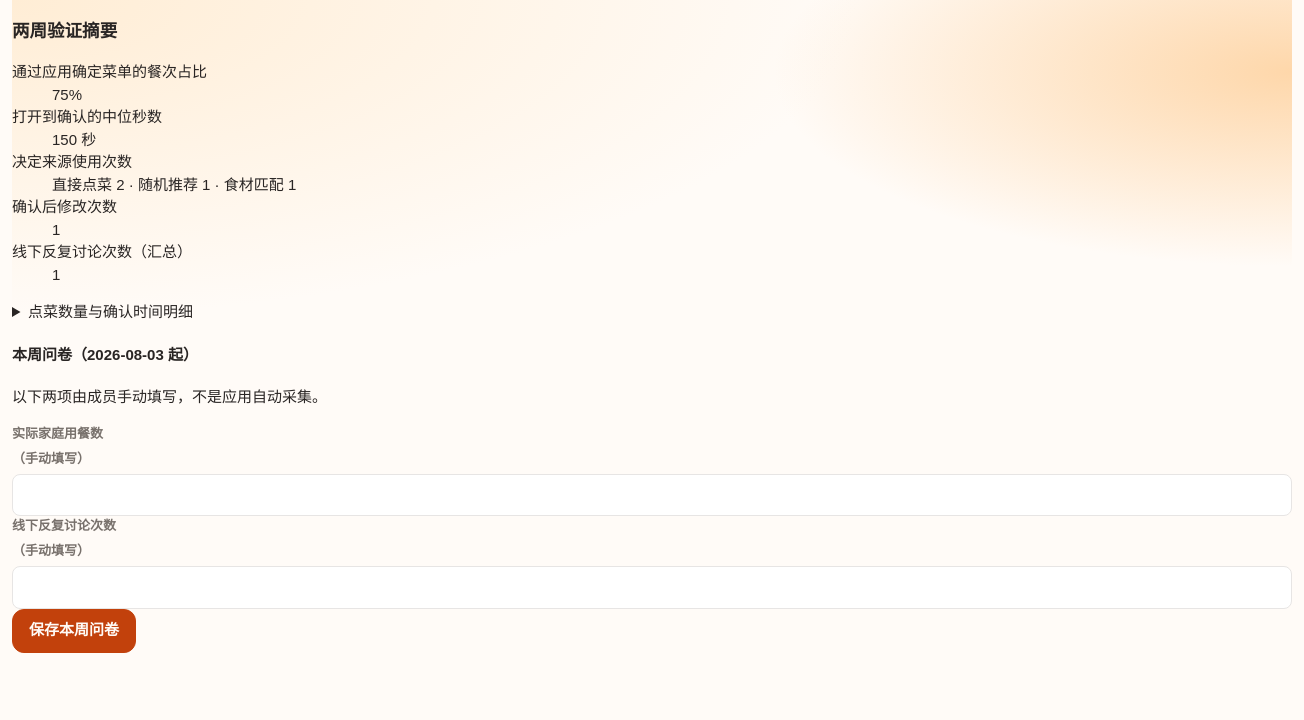
Scenario: ValidationSummary › submits weekly validation check-in
Type "4" into the number field labelled "实际家庭用餐数 （手动填写）" at (652, 495), box [12,474,1292,516]
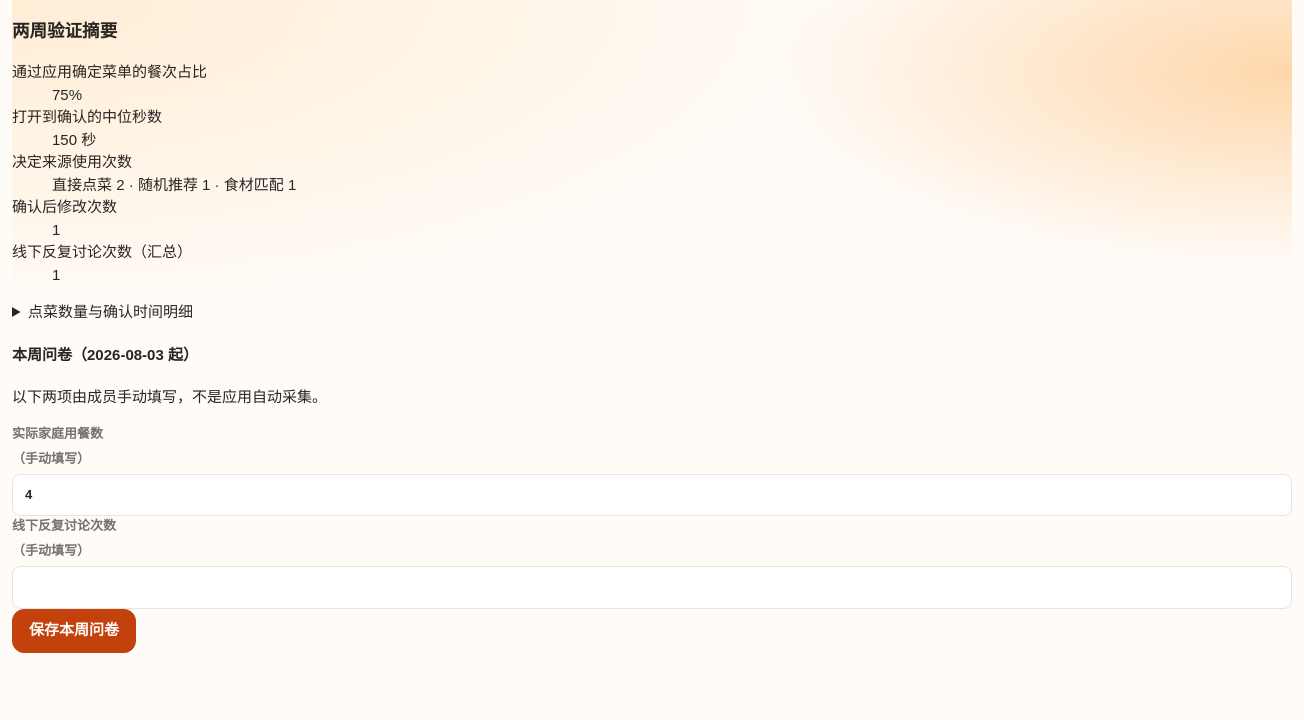
Type "1" into the number field labelled "线下反复讨论次数 （手动填写）" at (652, 588), box [12,566,1292,609]
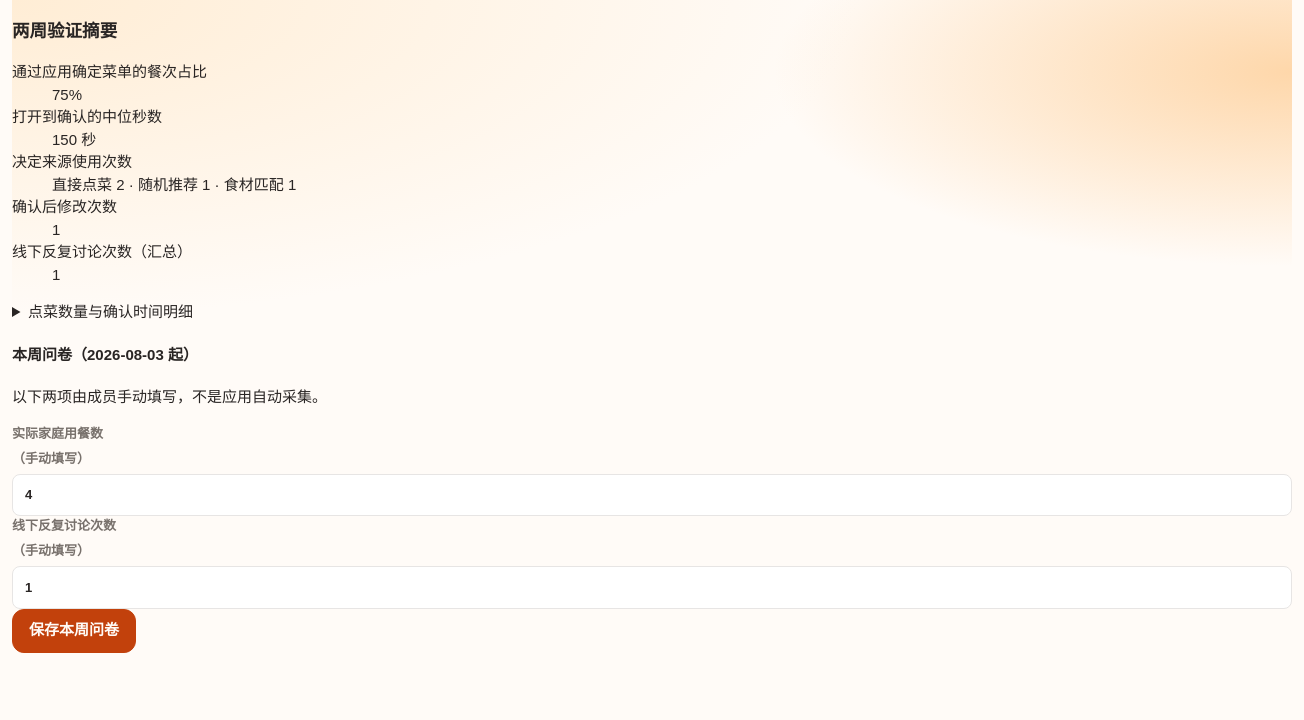
Click the button "保存本周问卷" at (74, 631), box [12,609,136,653]
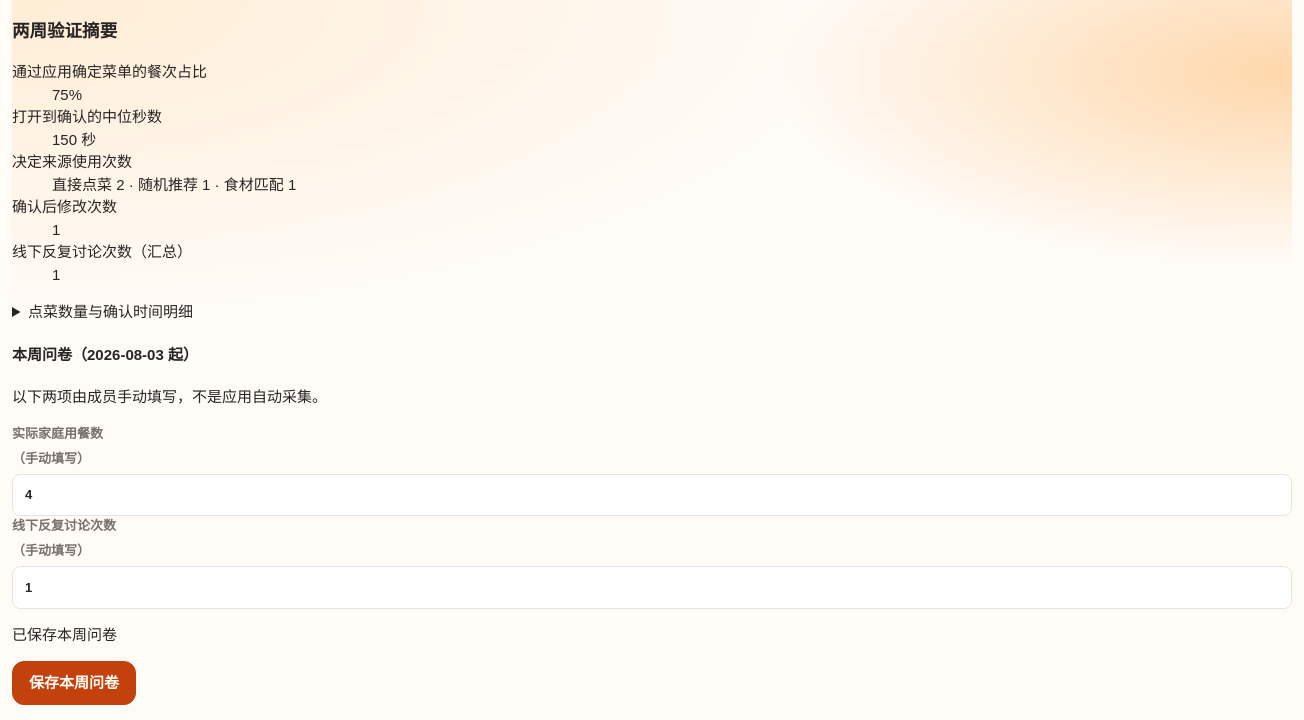
Now the message reads "已保存本周问卷", box [12,626,117,643]
